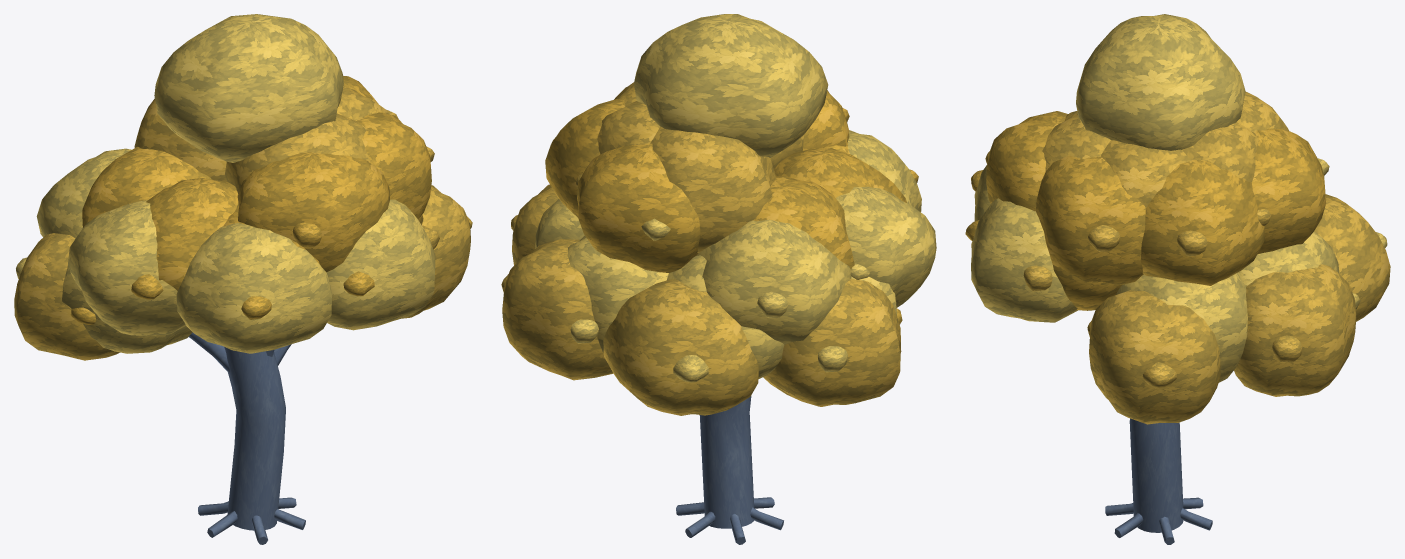
Rendered from tree_2.glb.
3 views of the same model, side by side, from view 1: azimuth 30°, elevation 25°; view 2: azimuth 150°, elevation 25°; view 3: azimuth 270°, elevation 25° (orthographic).
Visible parts, largest first — view 1: tree_2; view 2: tree_2; view 3: tree_2.
Part boxes in pixels (<box>): tree_2: <box>14,14,472,544</box>; tree_2: <box>501,14,936,544</box>; tree_2: <box>965,14,1390,544</box>.
Bounding box in the file's own units: 6.02 × 6.84 × 5.28.
Materials: 1 (1 with a texture image).
